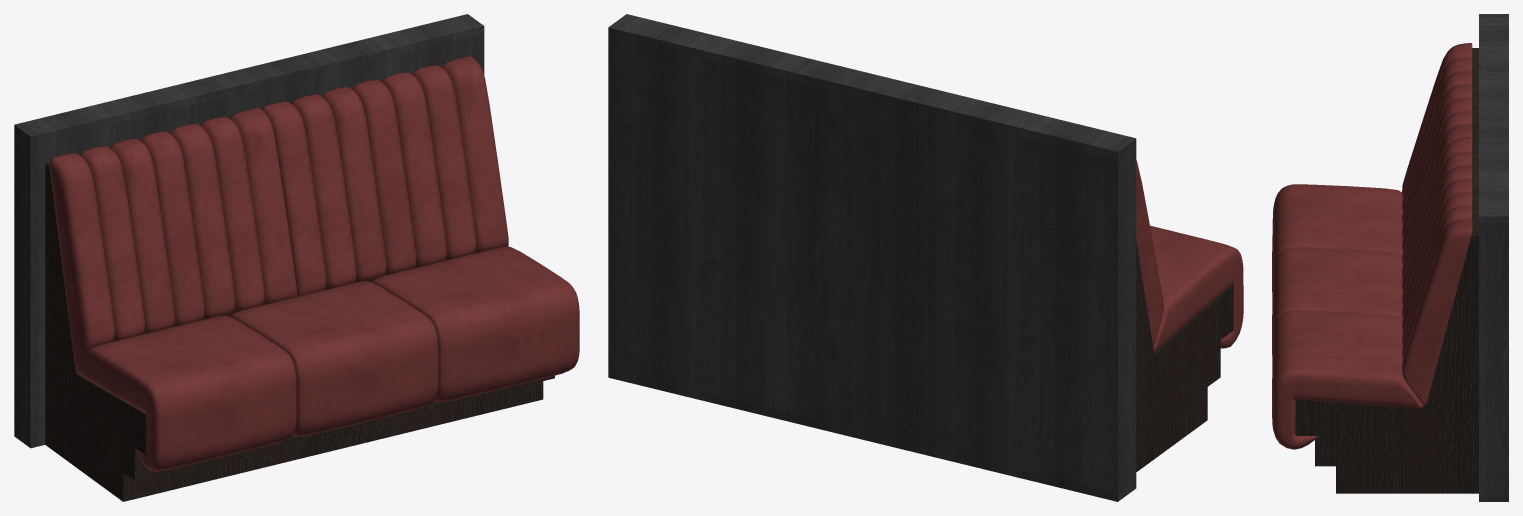
File: Sofa8.glb
3 renders of one model, left to right at view 1: azimuth 30°, elevation 25°; view 2: azimuth 150°, elevation 25°; view 3: azimuth 270°, elevation 25°, orthographic. The views are drawn at different scales.
Visible parts, largest first — view 1: Box9463, Box9462, Rectangle1060, Line2024, Line2023, Line2025, Line2026; view 2: Rectangle1060, Line2023, Line2024, Box9463; view 3: Line2023, Rectangle1060, Line2026, Box9462, Line2024, Line2025, Box9463.
Boxes of the visible parts, box(x1,y1,x2,y2) form: Box9463: box(50, 107, 297, 367); Box9462: box(262, 55, 508, 296); Rectangle1060: box(14, 14, 484, 448); Line2024: box(77, 315, 296, 471); Line2023: box(45, 66, 554, 501); Line2025: box(230, 281, 438, 436); Line2026: box(371, 246, 579, 402); Rectangle1060: box(608, 14, 1136, 501); Line2023: box(1136, 241, 1233, 471); Line2024: box(1150, 225, 1243, 351); Box9463: box(1136, 160, 1163, 346); Line2023: box(1295, 48, 1478, 493); Rectangle1060: box(1479, 14, 1508, 501); Line2026: box(1272, 310, 1423, 449); Box9462: box(1402, 137, 1472, 405); Line2024: box(1272, 184, 1402, 298); Line2025: box(1272, 247, 1402, 361); Box9463: box(1402, 43, 1472, 278).
Size of the model in its own units: 1.6 by 1.05 by 0.7908.
3 materials, 3 textured.
